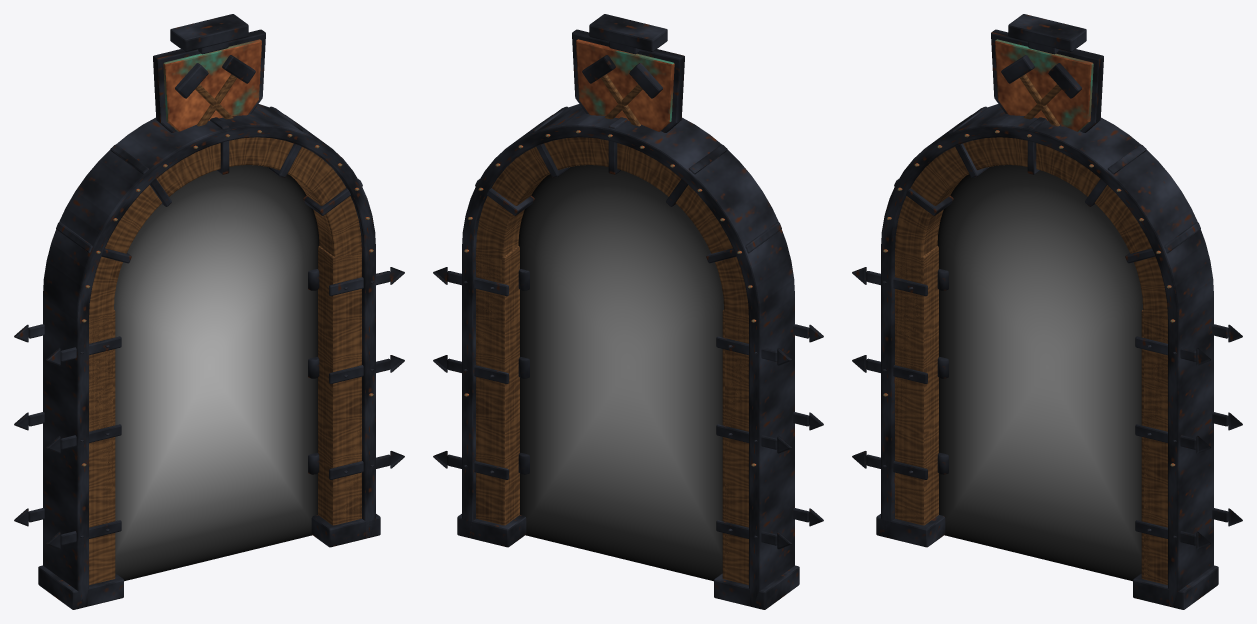
The model's file is forge_yard.glb.
3 views of the same model, side by side, from view 1: azimuth 30°, elevation 25°; view 2: azimuth 150°, elevation 25°; view 3: azimuth 330°, elevation 25° (orthographic).
Visible parts, largest first — view 1: Frame, Veil; view 2: Frame, Veil; view 3: Frame, Veil.
Part boxes in pixels (bbox=[...]): Frame: bbox=[14, 14, 404, 609]; Veil: bbox=[114, 165, 319, 581]; Frame: bbox=[433, 14, 823, 609]; Veil: bbox=[518, 165, 723, 581]; Frame: bbox=[852, 14, 1242, 609]; Veil: bbox=[937, 165, 1142, 581].
Size of the model in its own units: 2.35 by 3.34 by 0.442.
4 materials, 3 textured.
